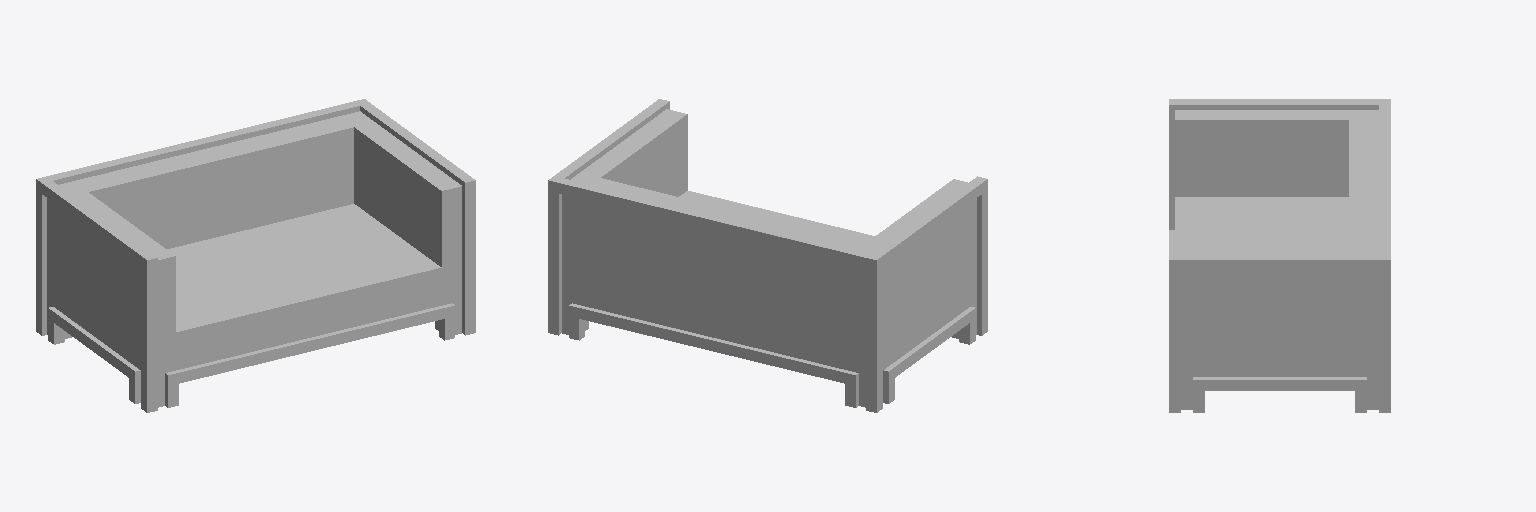
File: sofa.obj
3 renders of one model, left to right at view 1: azimuth 30°, elevation 25°; view 2: azimuth 150°, elevation 25°; view 3: azimuth 270°, elevation 25°, orthographic.
Parts seen in each view (by area): view 1: object 1; view 2: object 1; view 3: object 1.
Part boxes in pixels (left/top/right/bottom): object 1: left=36, top=99, right=475, bottom=412; object 1: left=548, top=99, right=987, bottom=412; object 1: left=1169, top=99, right=1390, bottom=412.
Size of the model in its own units: 6.3 by 2.8 by 3.7.